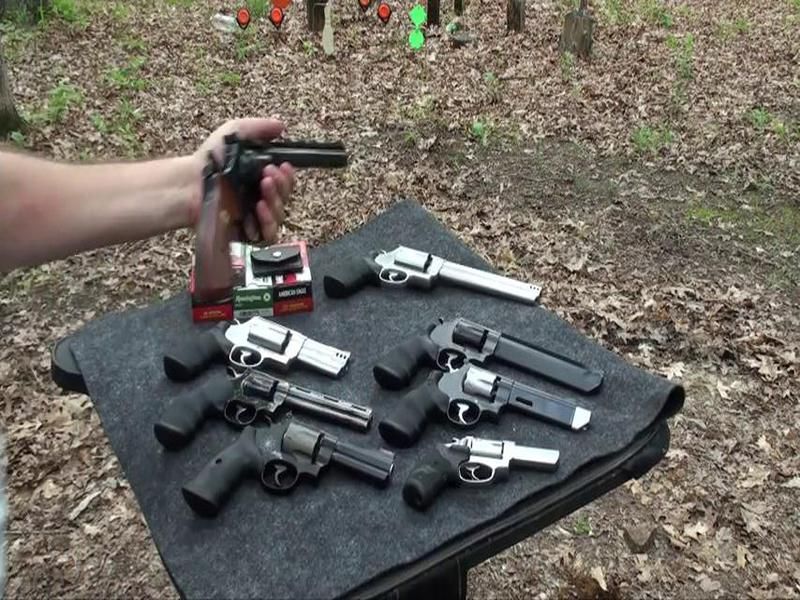Revolver: (191, 126, 378, 303)
